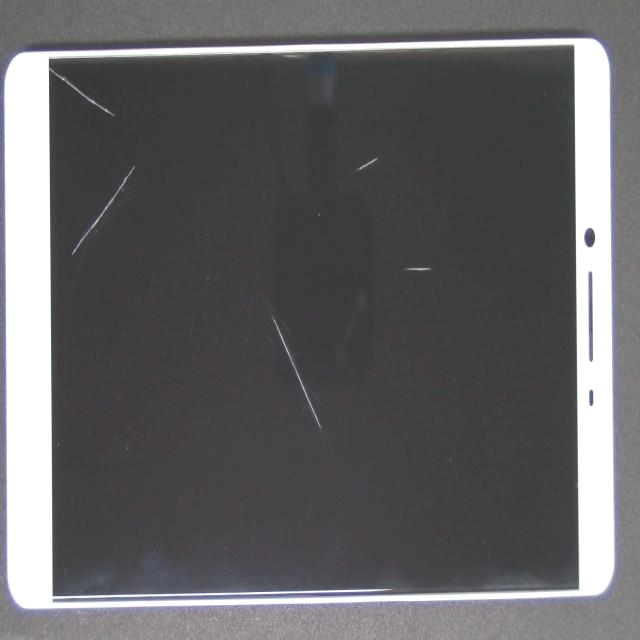scratch: (96, 83, 427, 537), (26, 11, 78, 120)
